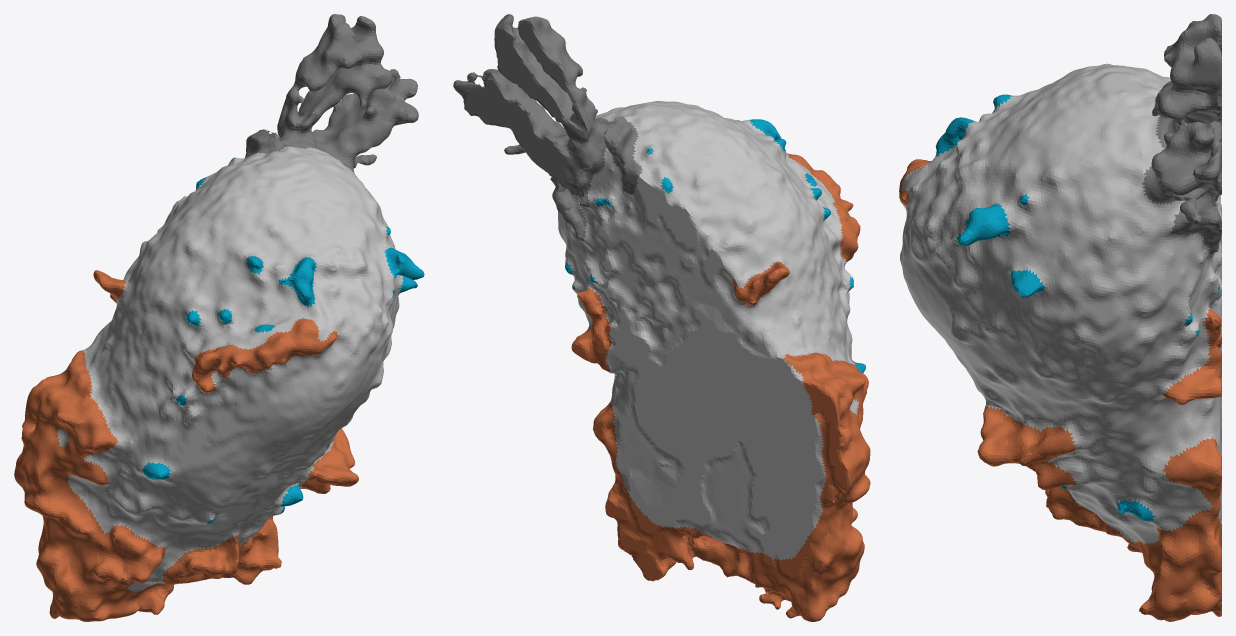
The picture shows the model from 3 angles, left to right: view 1: azimuth 30°, elevation 25°; view 2: azimuth 150°, elevation 25°; view 3: azimuth 270°, elevation 25°; orthographic projection. The views are drawn at different scales.
Bounding box in the file's own units: 134 × 171 × 73.55.
